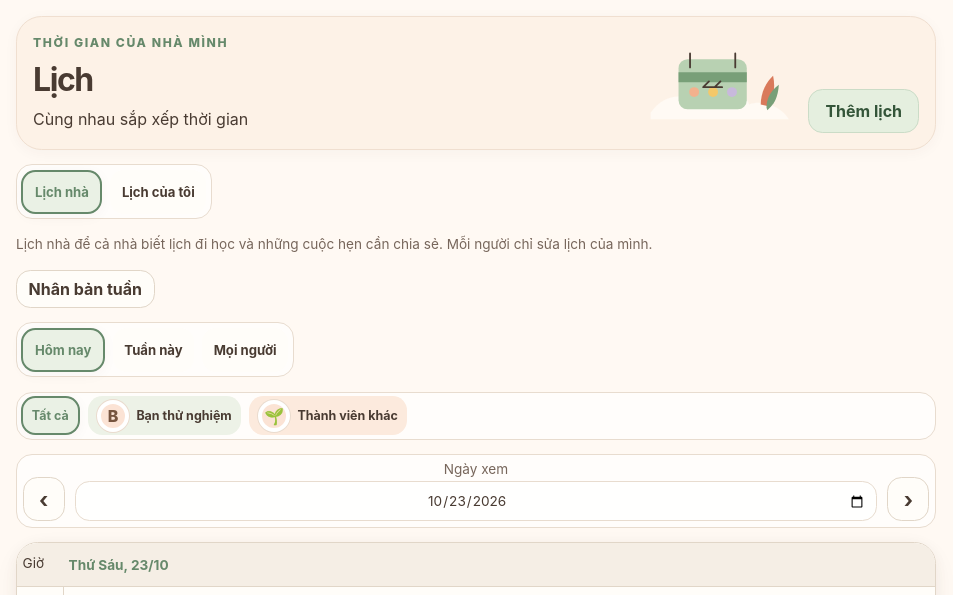
Test case: shared family calendar › allows an empty source date without crashing or submitting a copy
The image size is (953, 595).
(page scrolled)
Click the button "Nhân bản tuần".
click(85, 289)  # box [16,270,155,308]
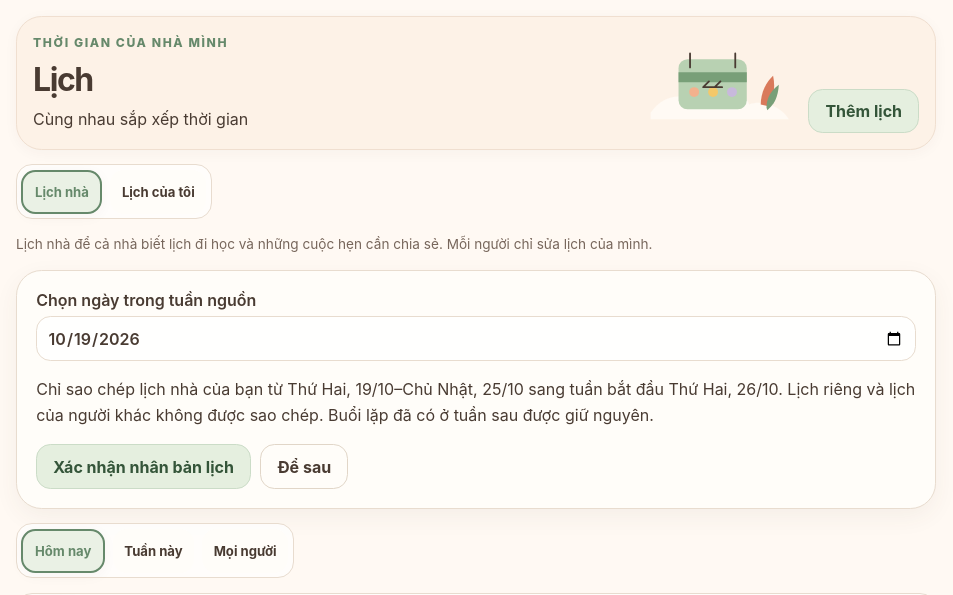
Clear the date field labelled "Chọn ngày trong tuần nguồn" at (476, 339), box [36,316,916,361]
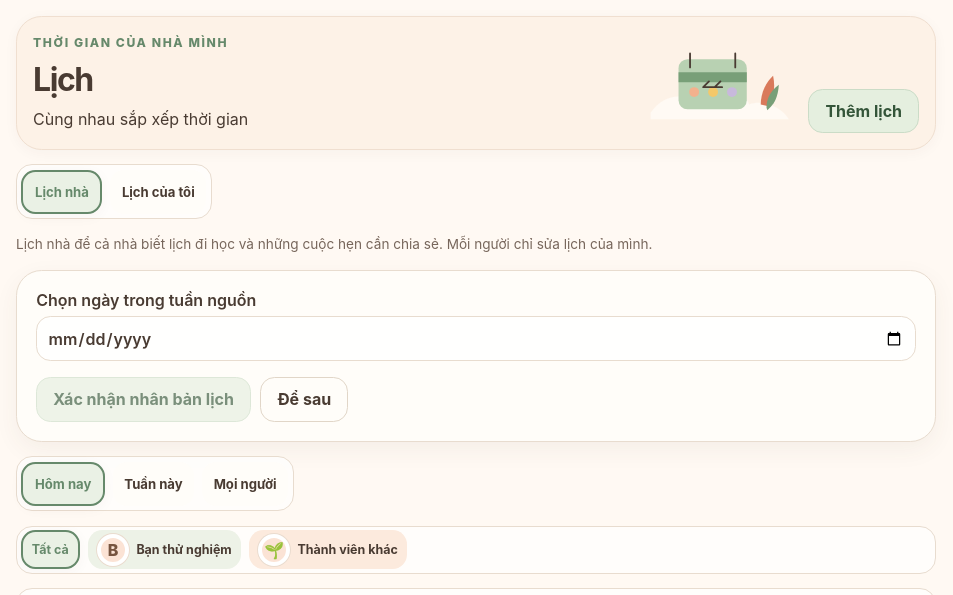
Now the form named "Nhân bản lịch nhà" is shown, box [16,270,936,442]
Now the button "Xác nhận nhân bản lịch" is disabled, box [36,377,251,422]
Type "2026-10-23" into the date field labelled "Chọn ngày trong tuần nguồn".
click(476, 339); type("2026-10-23")  # box [36,316,916,361]
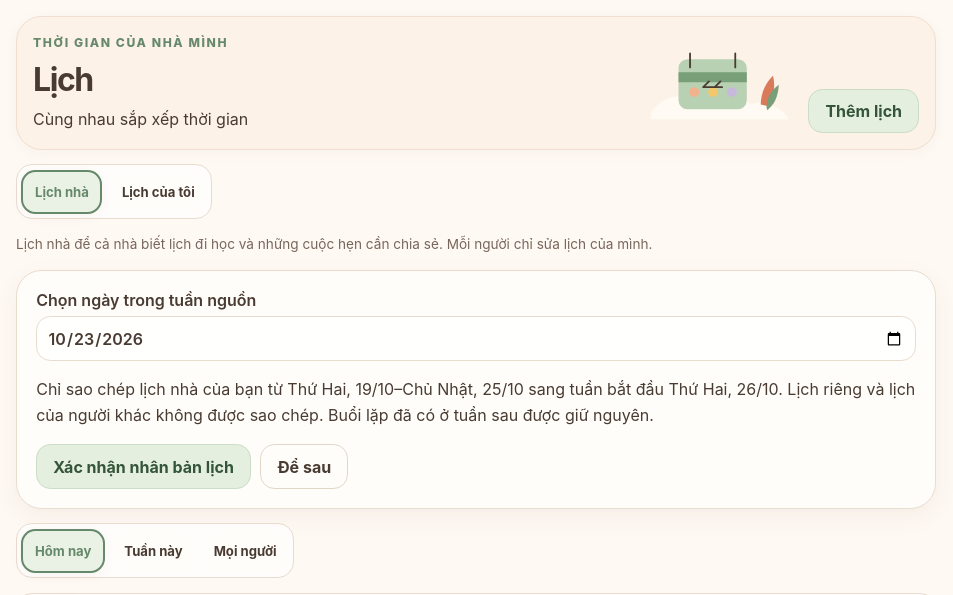
Now the button "Xác nhận nhân bản lịch" is enabled, box [36,444,251,489]
